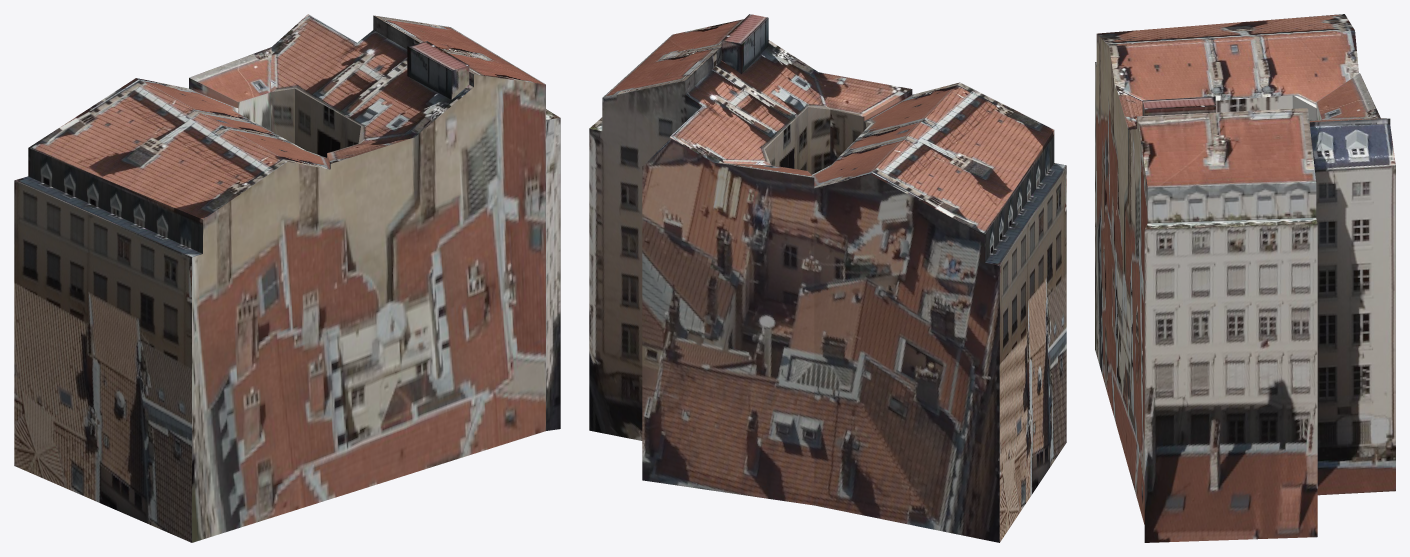
3 renders of one model, left to right at view 1: azimuth 30°, elevation 25°; view 2: azimuth 150°, elevation 25°; view 3: azimuth 270°, elevation 25°, orthographic. The views are drawn at different scales.
Visible parts, largest first — view 1: Z_UP; view 2: Z_UP; view 3: Z_UP.
Boxes of the visible parts, x1=… form: Z_UP: x1=14, y1=14, x2=560, y2=542; Z_UP: x1=589, y1=14, x2=1066, y2=542; Z_UP: x1=1095, y1=14, x2=1395, y2=542.
Size of the model in its own units: 36.18 by 29.79 by 20.9.
2 materials, 1 textured.
